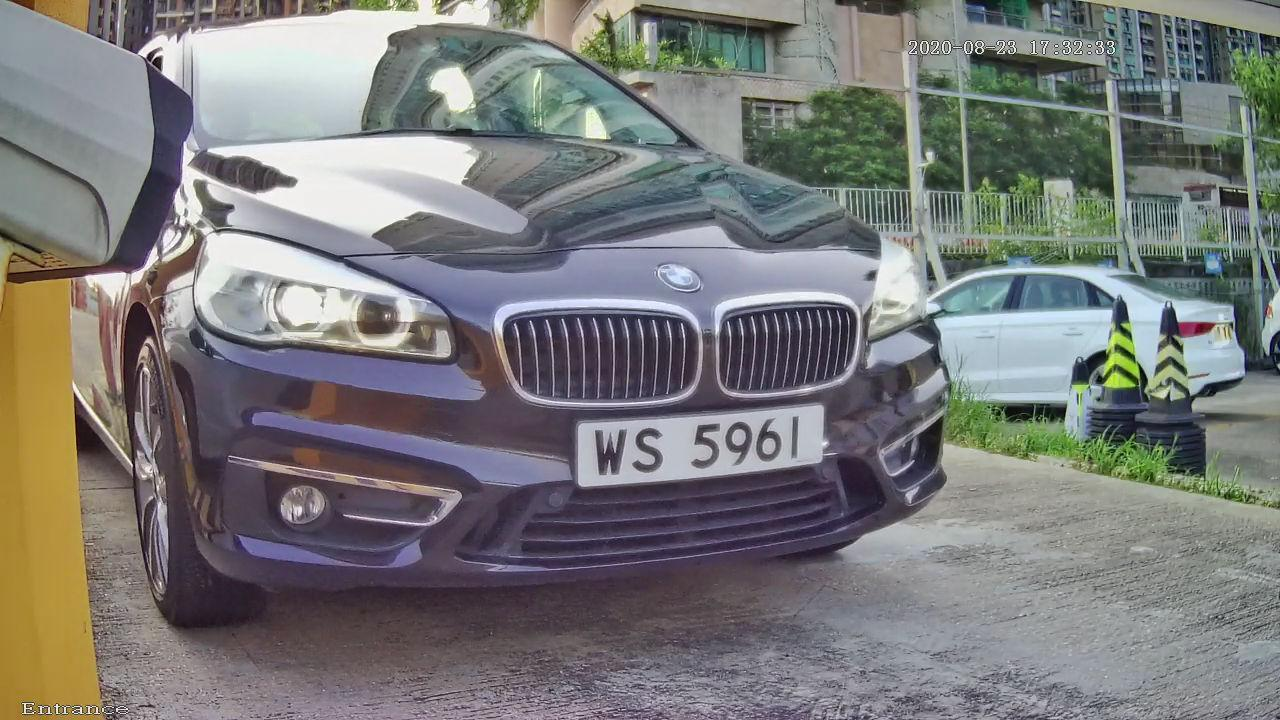Car: (29, 7, 1029, 653)
License Plate: (543, 376, 886, 529)
